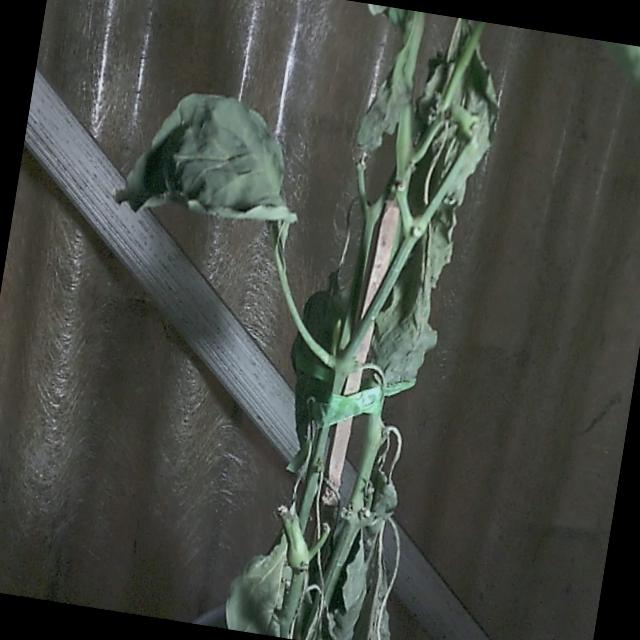Leaf: (109, 76, 307, 238)
